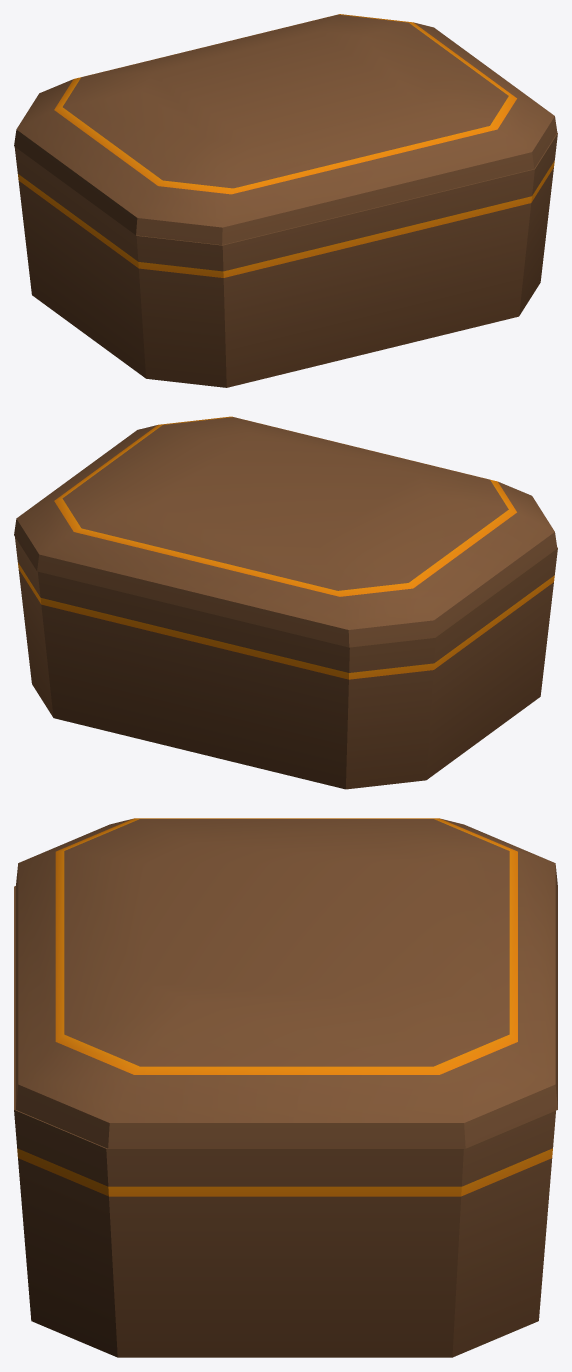
Rendered from ChestSmall1.fbx.
The picture shows the model from 3 angles, top to bottom: view 1: azimuth 30°, elevation 25°; view 2: azimuth 150°, elevation 25°; view 3: azimuth 270°, elevation 25°; orthographic projection. The views are drawn at different scales.
Visible parts, largest first — view 1: ChestSmall1_Lid, ChestSmall1; view 2: ChestSmall1_Lid, ChestSmall1; view 3: ChestSmall1_Lid, ChestSmall1.
Part boxes in pixels (x1=…): ChestSmall1_Lid: x1=14, y1=14, x2=557, y2=244; ChestSmall1: x1=14, y1=133, x2=557, y2=387; ChestSmall1_Lid: x1=14, y1=416, x2=557, y2=647; ChestSmall1: x1=15, y1=537, x2=557, y2=789; ChestSmall1_Lid: x1=15, y1=818, x2=557, y2=1148; ChestSmall1: x1=14, y1=886, x2=555, y2=1357.
Bounding box in the file's own units: 31.73 × 14.43 × 24.21.
